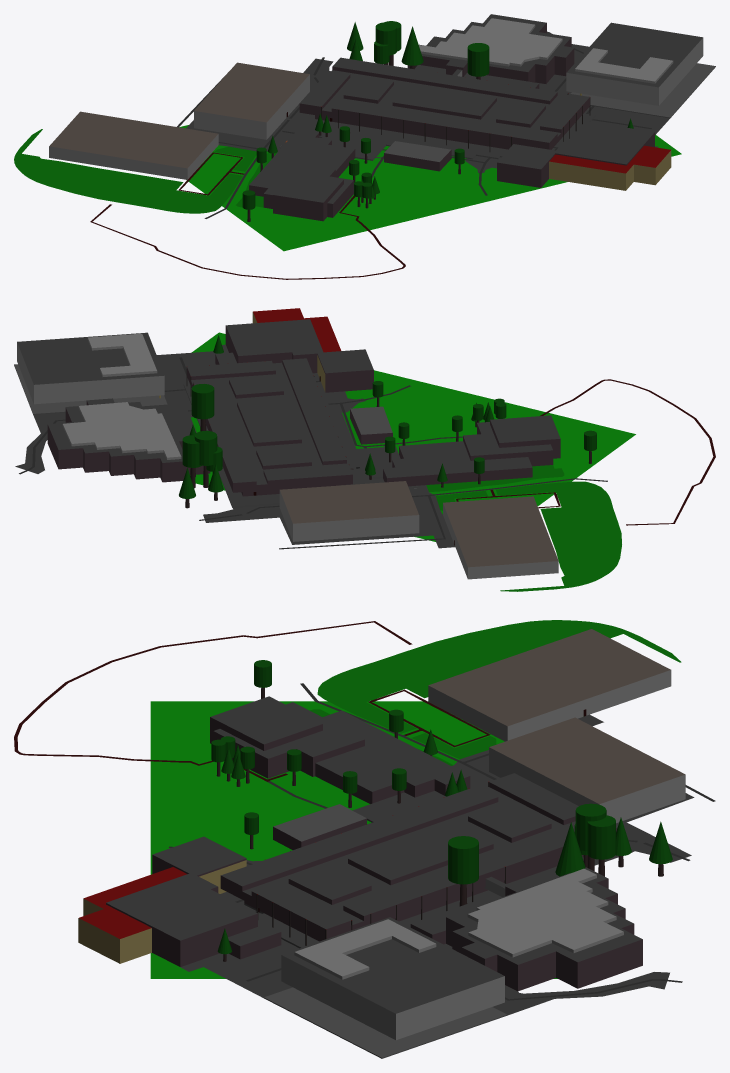
Rendered from bench.obj.
3 renders of one model, top to bottom at view 1: azimuth 30°, elevation 25°; view 2: azimuth 150°, elevation 25°; view 3: azimuth 270°, elevation 25°, orthographic. The views are drawn at different scales.
Visible parts, largest first — view 1: object 290, SurfaceArea280, object 279, object 281, object 277, object 287, object 283, SurfaceArea274, object 282, SurfaceArea275, Forest279, Building Container 3 (+2 smaller); view 2: object 290, SurfaceArea280, object 279, object 287, object 283, object 277, object 281, object 282, SurfaceArea274, SurfaceArea275, Forest279, Building Container 3 (+2 smaller); view 3: object 290, object 279, SurfaceArea280, object 287, object 281, object 277, object 283, object 282, SurfaceArea274, SurfaceArea275, Forest279, Building Container 3 (+2 smaller).
Boxes of the visible parts, left/top/right/bottom form: object 290: left=282, top=57, right=595, bottom=160; SurfaceArea280: left=179, top=125, right=681, bottom=251; object 279: left=566, top=22, right=715, bottom=118; object 281: left=497, top=122, right=671, bottom=190; object 277: left=49, top=111, right=218, bottom=179; object 287: left=407, top=14, right=574, bottom=88; object 283: left=249, top=129, right=355, bottom=221; SurfaceArea274: left=14, top=129, right=242, bottom=213; object 282: left=194, top=62, right=309, bottom=139; SurfaceArea275: left=186, top=31, right=669, bottom=172; Forest279: left=347, top=21, right=489, bottom=79; Building Container 3: left=384, top=141, right=451, bottom=171; object 290: left=183, top=358, right=400, bottom=507; SurfaceArea280: left=190, top=332, right=635, bottom=541; object 279: left=14, top=332, right=167, bottom=414; object 287: left=47, top=398, right=210, bottom=482; object 283: left=383, top=415, right=560, bottom=486; object 277: left=443, top=496, right=558, bottom=579; object 281: left=215, top=308, right=373, bottom=392; object 282: left=279, top=481, right=419, bottom=541; SurfaceArea274: left=496, top=481, right=621, bottom=591; SurfaceArea275: left=15, top=344, right=454, bottom=548; Forest279: left=179, top=384, right=223, bottom=508; Building Container 3: left=350, top=406, right=392, bottom=444; object 290: left=220, top=773, right=631, bottom=948; object 279: left=264, top=917, right=507, bottom=1058; SurfaceArea280: left=150, top=701, right=557, bottom=978; object 287: left=410, top=867, right=642, bottom=991; object 281: left=78, top=836, right=281, bottom=966; object 277: left=428, top=629, right=671, bottom=741; object 283: left=210, top=696, right=470, bottom=803; object 282: left=489, top=717, right=685, bottom=823; SurfaceArea274: left=317, top=620, right=681, bottom=733; SurfaceArea275: left=181, top=714, right=694, bottom=1015; Forest279: left=448, top=803, right=672, bottom=906; Building Container 3: left=273, top=804, right=366, bottom=849.
Bounding box in the file's own units: 285 × 21.71 × 192.
